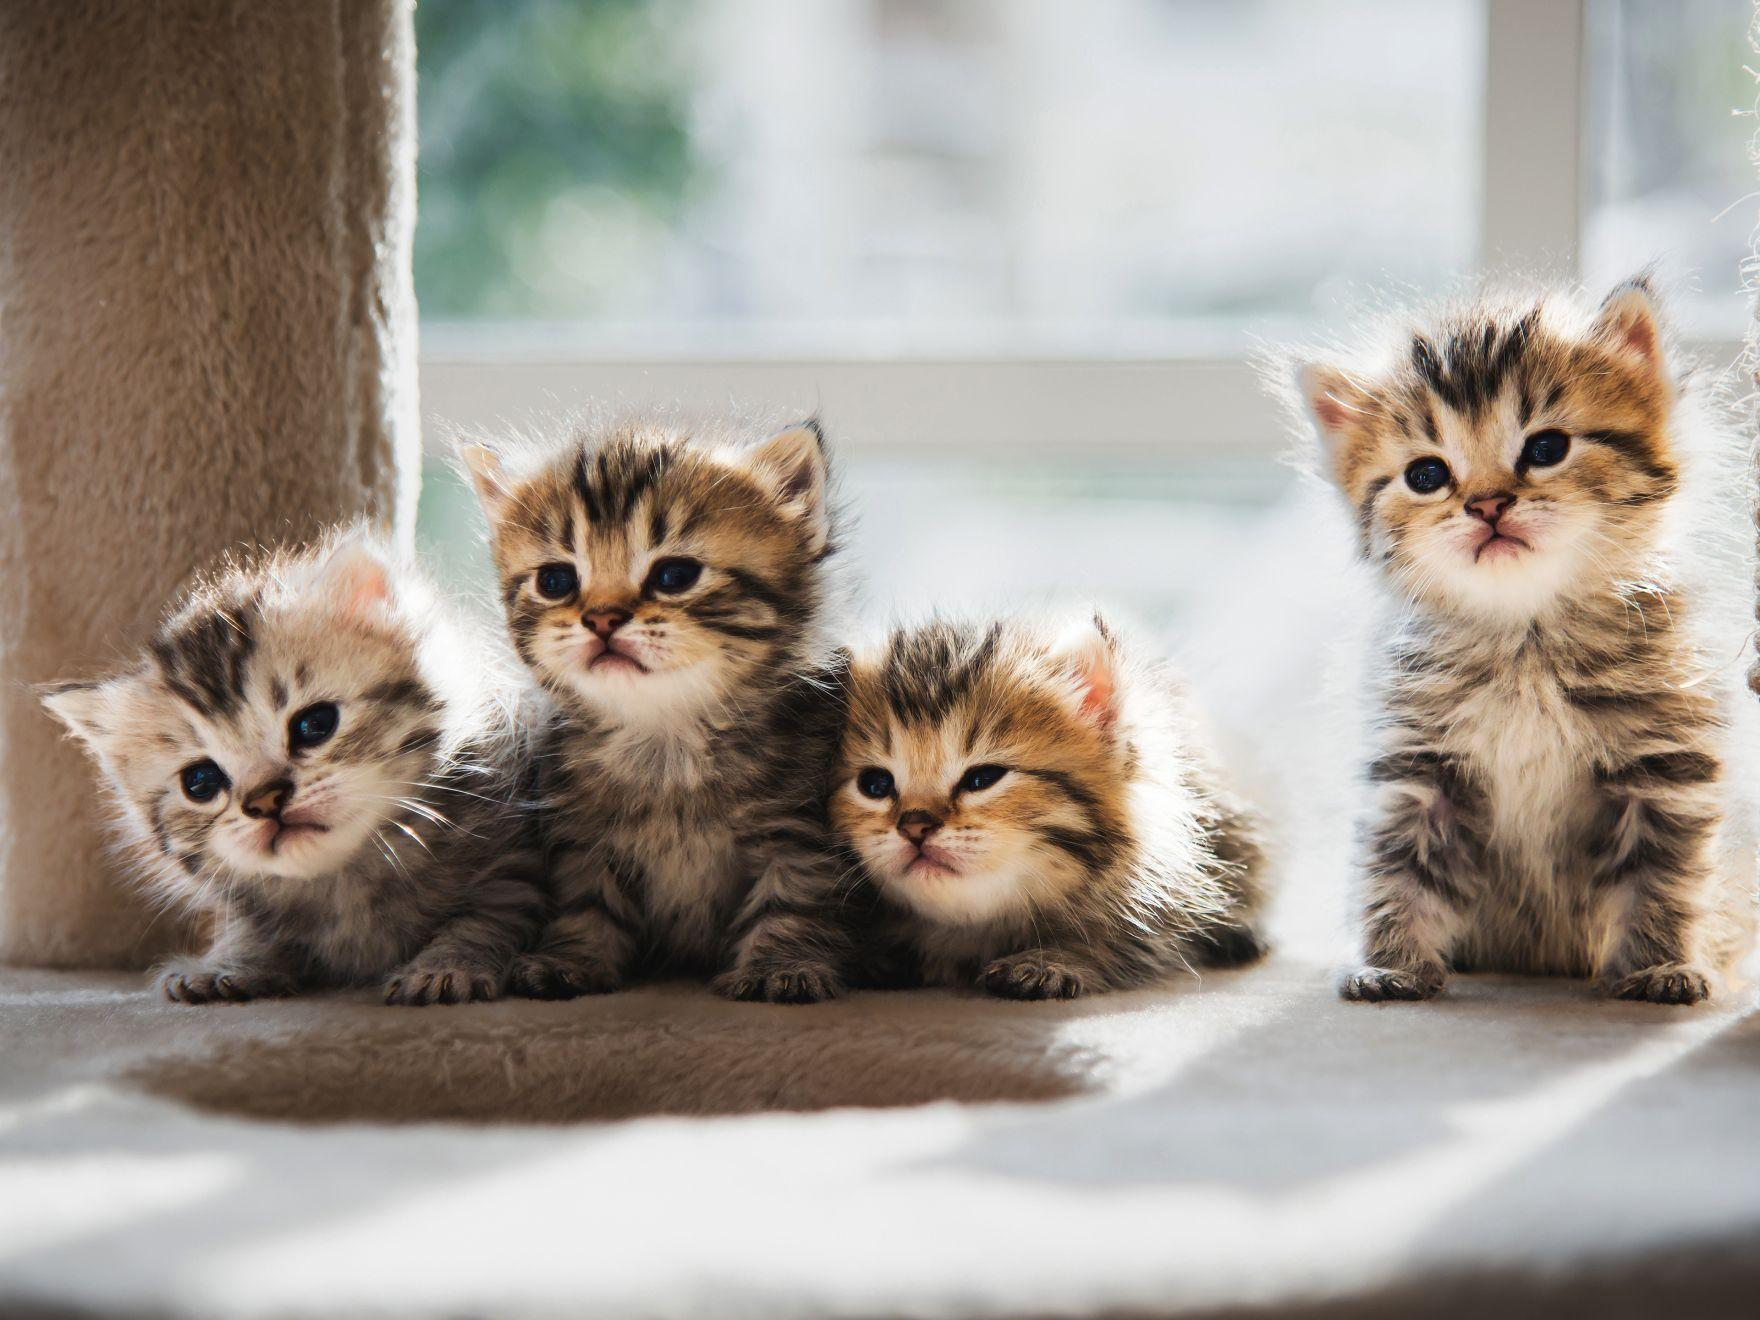cats: (1278, 273, 1736, 1018), (448, 377, 869, 987), (22, 501, 502, 1021), (836, 582, 1303, 1022)
